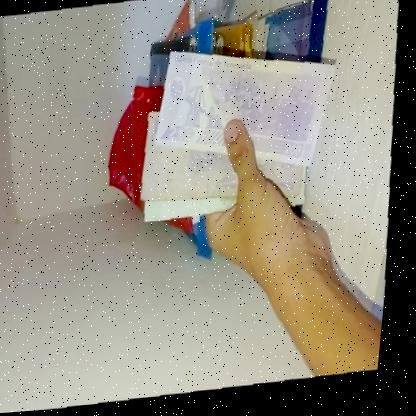fifty-back-vef: (146, 168, 312, 225)
ten-back-vef: (140, 99, 315, 212)
two_hundred-back-vef: (153, 39, 341, 182)
